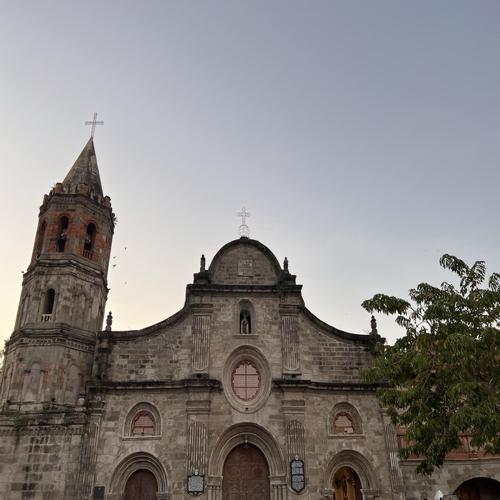Barasoain Church: (4, 99, 405, 500)
